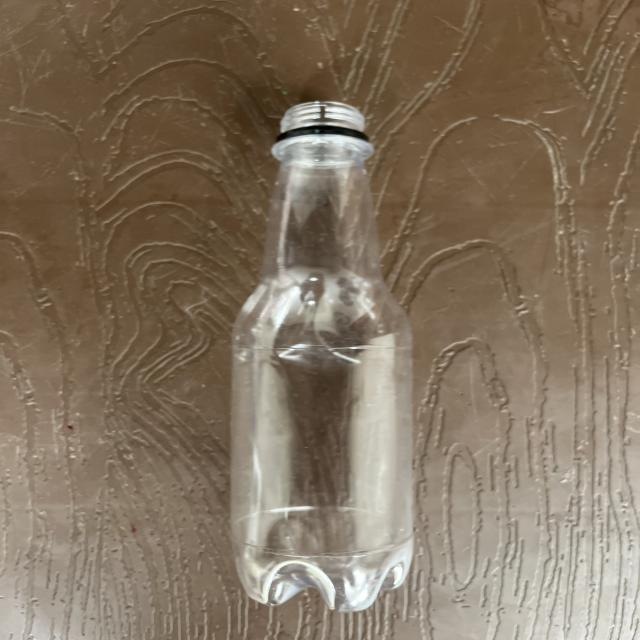PET_With_Cap: (223, 97, 416, 608)
